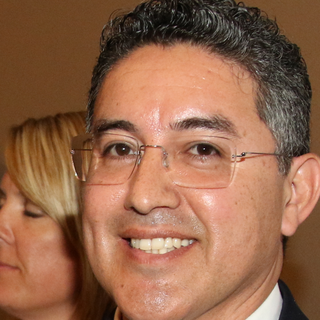eye: (181, 138, 228, 163), (98, 138, 142, 163)
